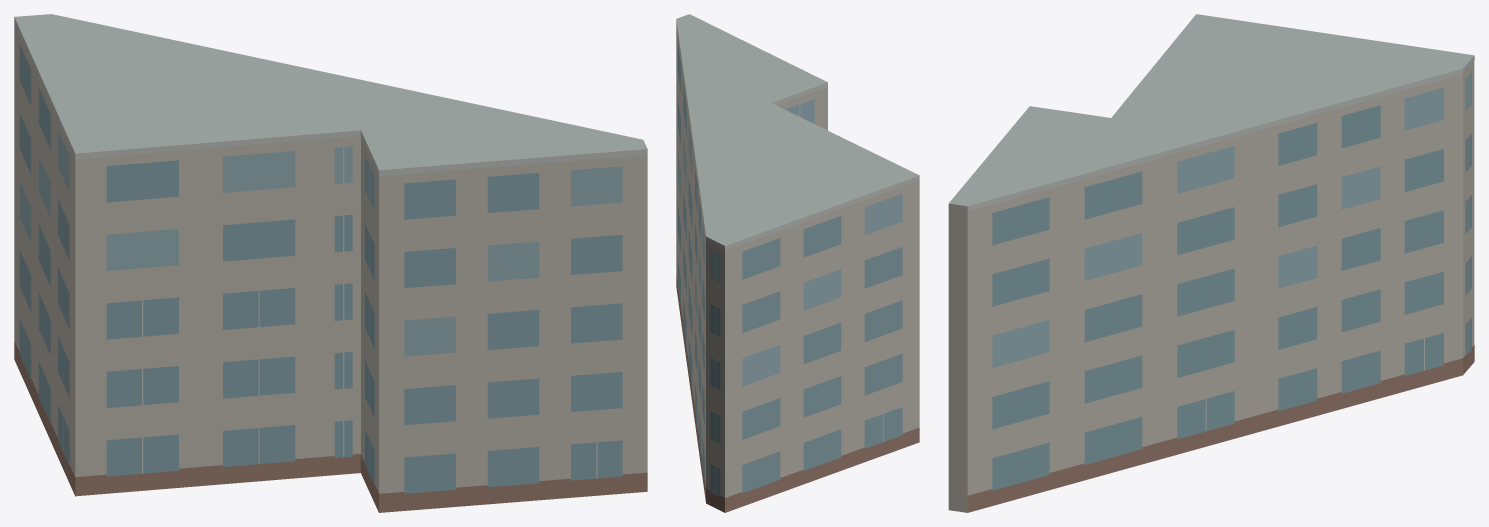
The model's file is survey-upis-32946622.glb.
3 views of the same model, side by side, from view 1: azimuth 30°, elevation 25°; view 2: azimuth 150°, elevation 25°; view 3: azimuth 270°, elevation 25° (orthographic). The views are drawn at different scales.
Visible parts, largest first — view 1: survey-upis-32946622.tmp; view 2: survey-upis-32946622.tmp; view 3: survey-upis-32946622.tmp.
Part boxes in pixels (left/top/right/bottom): survey-upis-32946622.tmp: left=14, top=14, right=647, bottom=512; survey-upis-32946622.tmp: left=676, top=14, right=919, bottom=512; survey-upis-32946622.tmp: left=948, top=14, right=1474, bottom=512.
Bounding box in the file's own units: 19.11 × 14.2 × 22.08.
